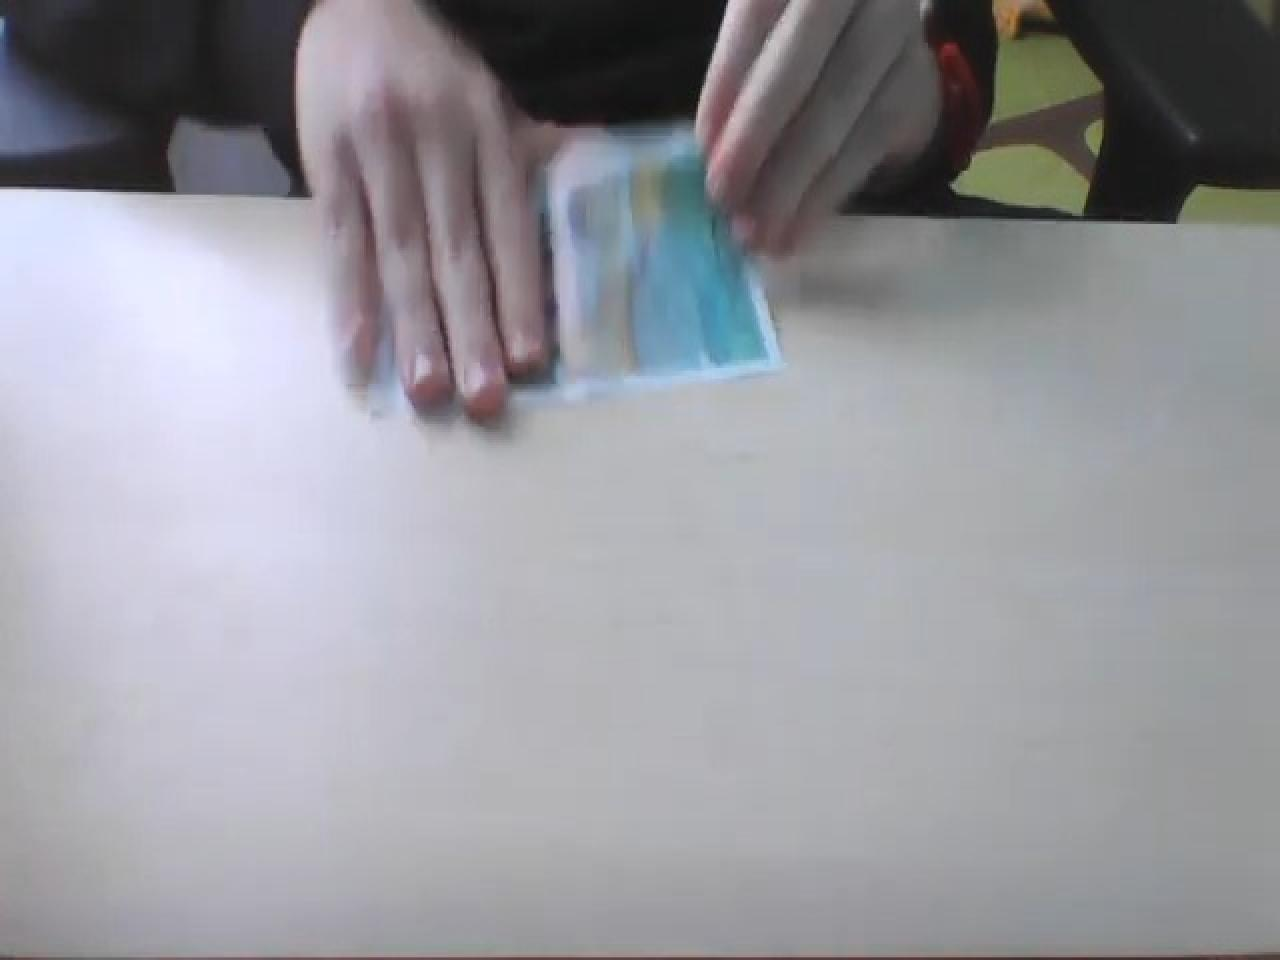100leva: (540, 120, 784, 392)
